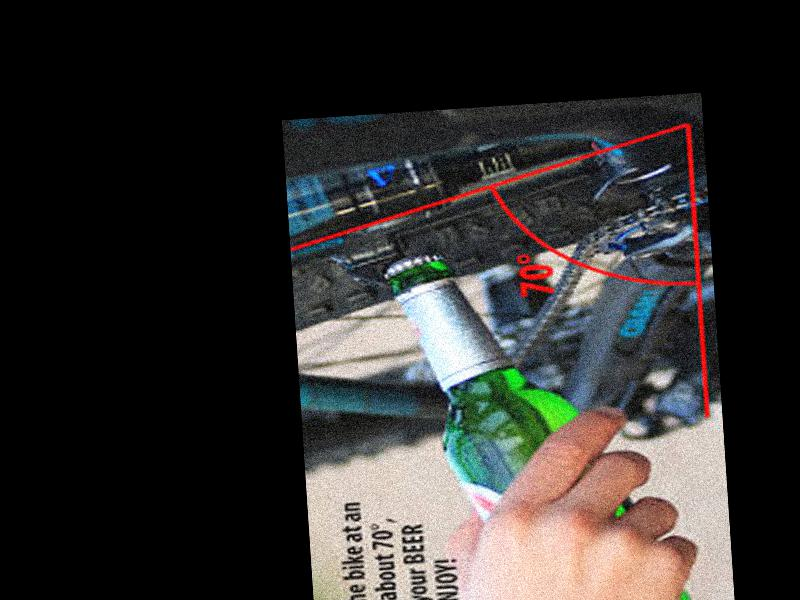Beer: (383, 232, 699, 600)
